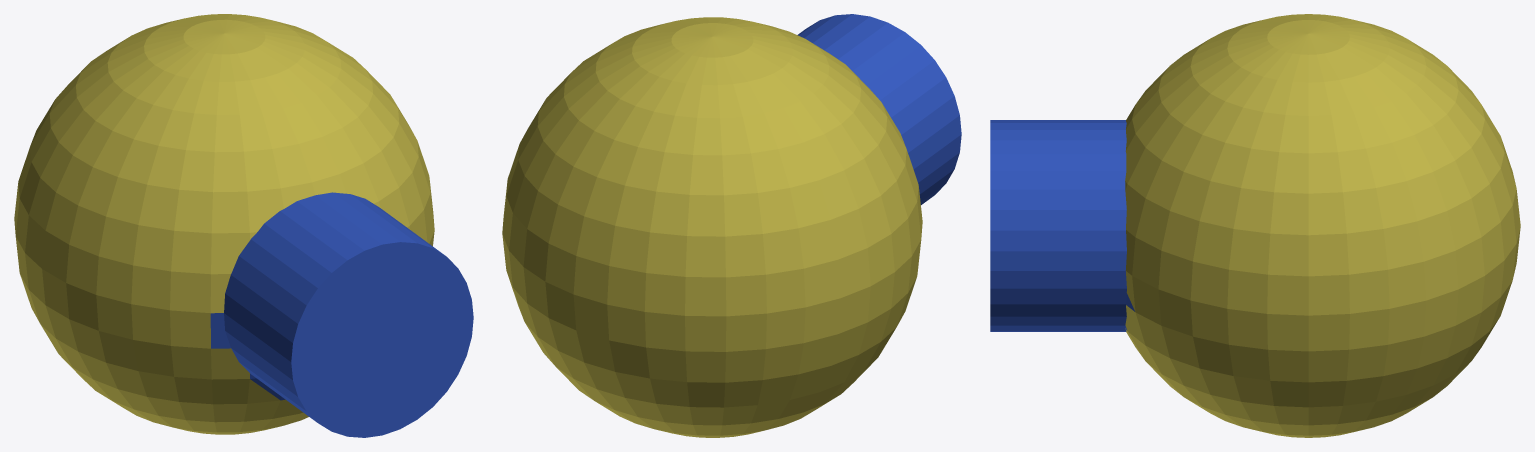
Rendered from wrist.dae.
The picture shows the model from 3 angles, left to right: view 1: azimuth 30°, elevation 25°; view 2: azimuth 150°, elevation 25°; view 3: azimuth 270°, elevation 25°; orthographic projection.
Parts seen in each view (by area): view 1: Sphere; view 2: Sphere; view 3: Sphere.
Boxes of the visible parts, bbox=[...] form: Sphere: bbox=[14, 14, 473, 437]; Sphere: bbox=[502, 14, 961, 437]; Sphere: bbox=[990, 14, 1520, 437].
Size of the model in its own units: 0.08 by 0.1 by 0.08.
